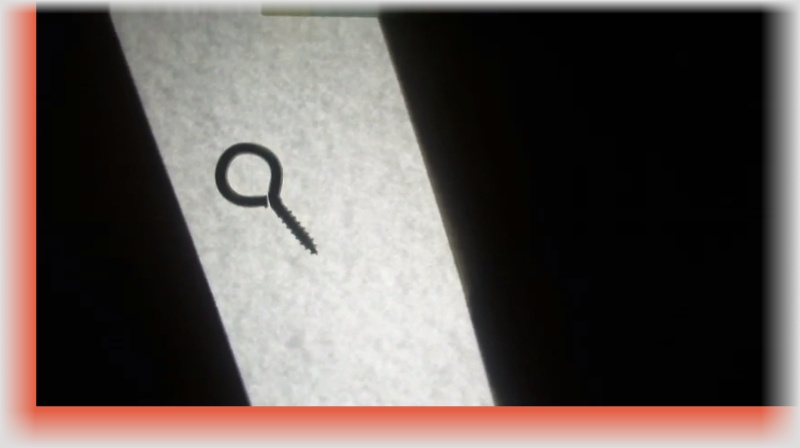O001: (209, 137, 319, 256)
